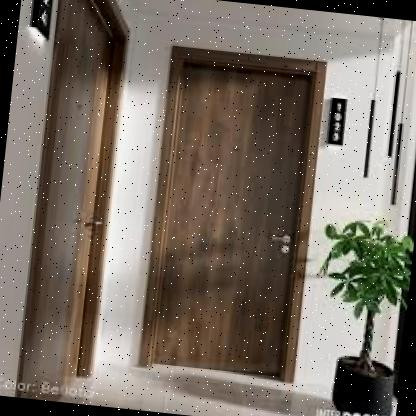door: (130, 40, 332, 388), (8, 0, 137, 394)
